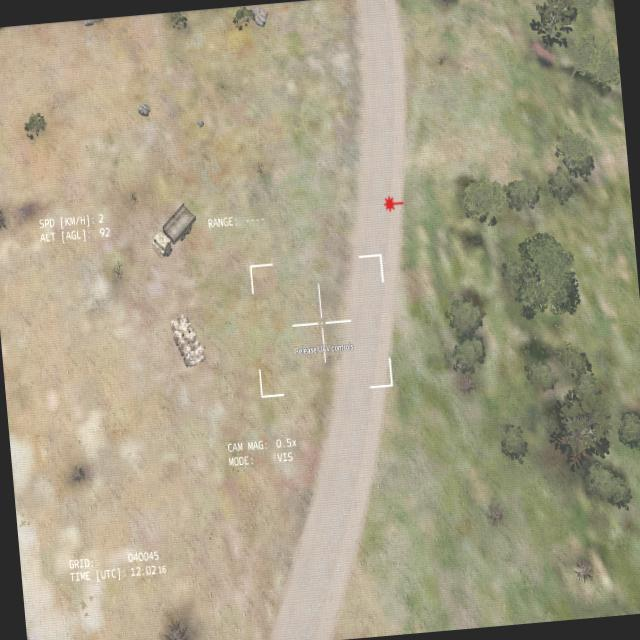apc: (168, 310, 208, 370)
truck: (145, 200, 199, 260)
